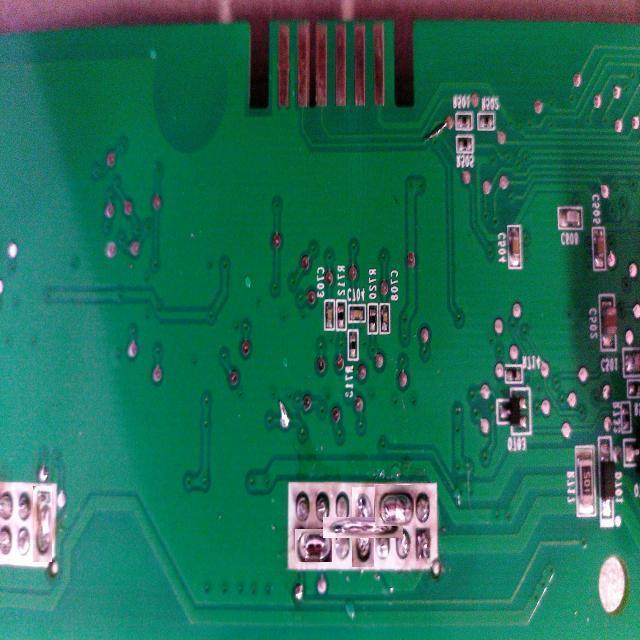Short_circuit: (338, 502, 388, 552), (374, 484, 414, 526), (32, 485, 52, 562), (294, 528, 332, 562)
